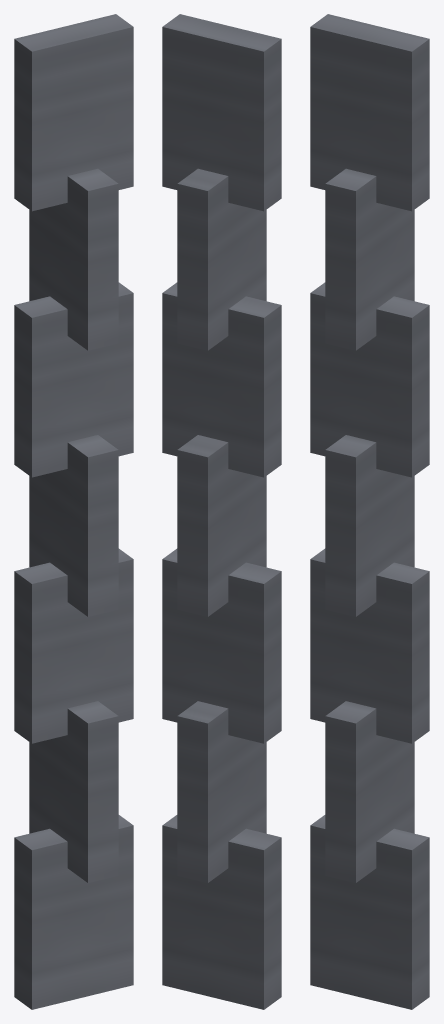
Rendered from Chain.fbx.
3 renders of one model, left to right at view 1: azimuth 30°, elevation 25°; view 2: azimuth 150°, elevation 25°; view 3: azimuth 330°, elevation 25°, orthographic.
Visible parts, largest first — view 1: Chain; view 2: Chain; view 3: Chain.
Boxes of the visible parts, x1=… form: Chain: x1=14, y1=14, x2=133, y2=1009; Chain: x1=162, y1=14, x2=281, y2=1009; Chain: x1=310, y1=14, x2=429, y2=1009.
Bounding box in the file's own units: 0.04 × 0.36 × 0.04.
1 material, 1 textured.
